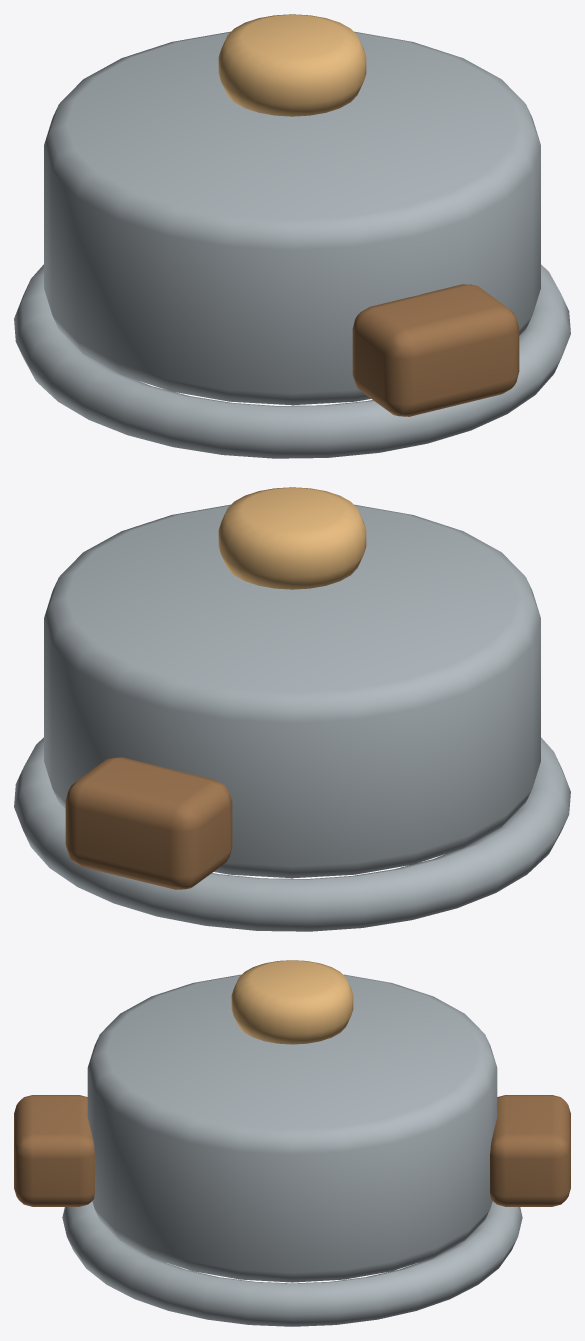
File: hat_cookpot_soft.glb
3 renders of one model, top to bottom at view 1: azimuth 30°, elevation 25°; view 2: azimuth 150°, elevation 25°; view 3: azimuth 270°, elevation 25°, orthographic. The views are drawn at different scales.
Visible parts, largest first — view 1: hat_cookpot_soft; view 2: hat_cookpot_soft; view 3: hat_cookpot_soft.
Boxes of the visible parts, <box> form: hat_cookpot_soft: <box>14,14,570,458</box>; hat_cookpot_soft: <box>14,487,570,931</box>; hat_cookpot_soft: <box>14,960,570,1326</box>.
Size of the model in its own units: 0.438 by 0.273 by 0.53.
